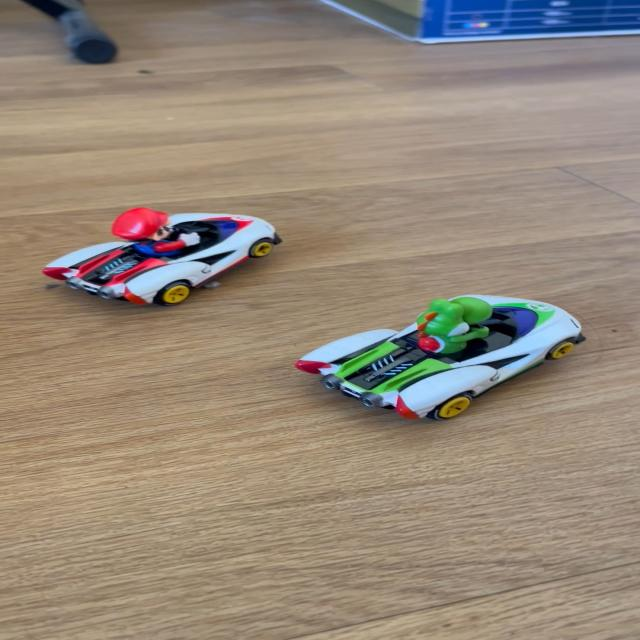mario: (26, 201, 288, 313)
yoshi: (281, 285, 593, 432)
